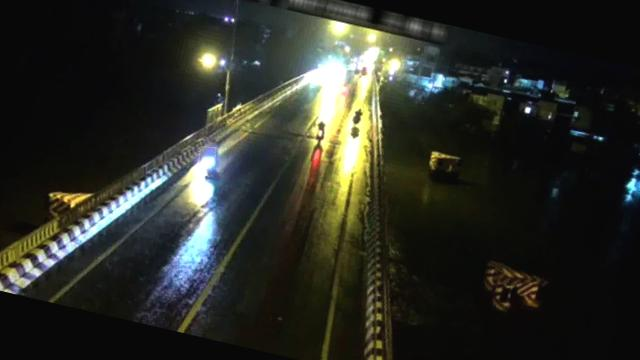Bike: (195, 145, 218, 177), (348, 106, 366, 128), (314, 120, 328, 140)
